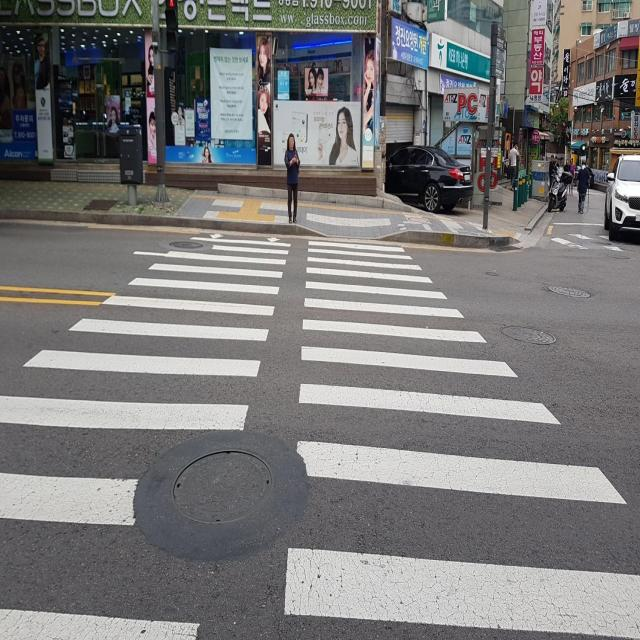횡단보도: (2, 232, 640, 640)
